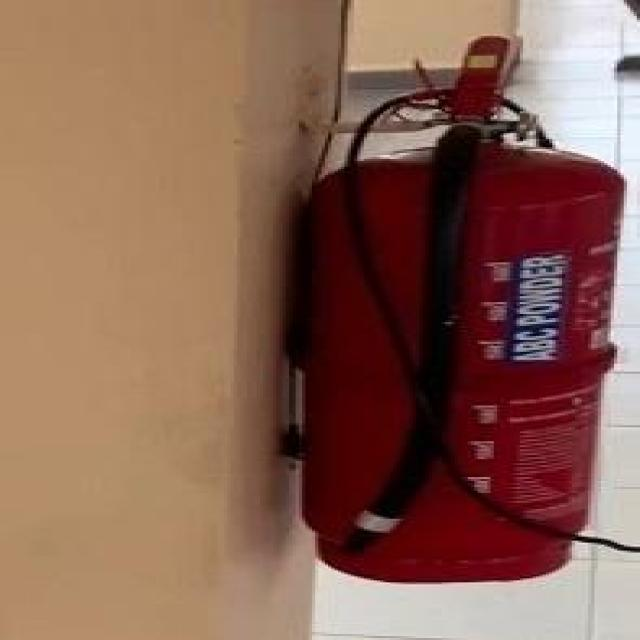fire_extinguisher: (260, 27, 637, 593)
